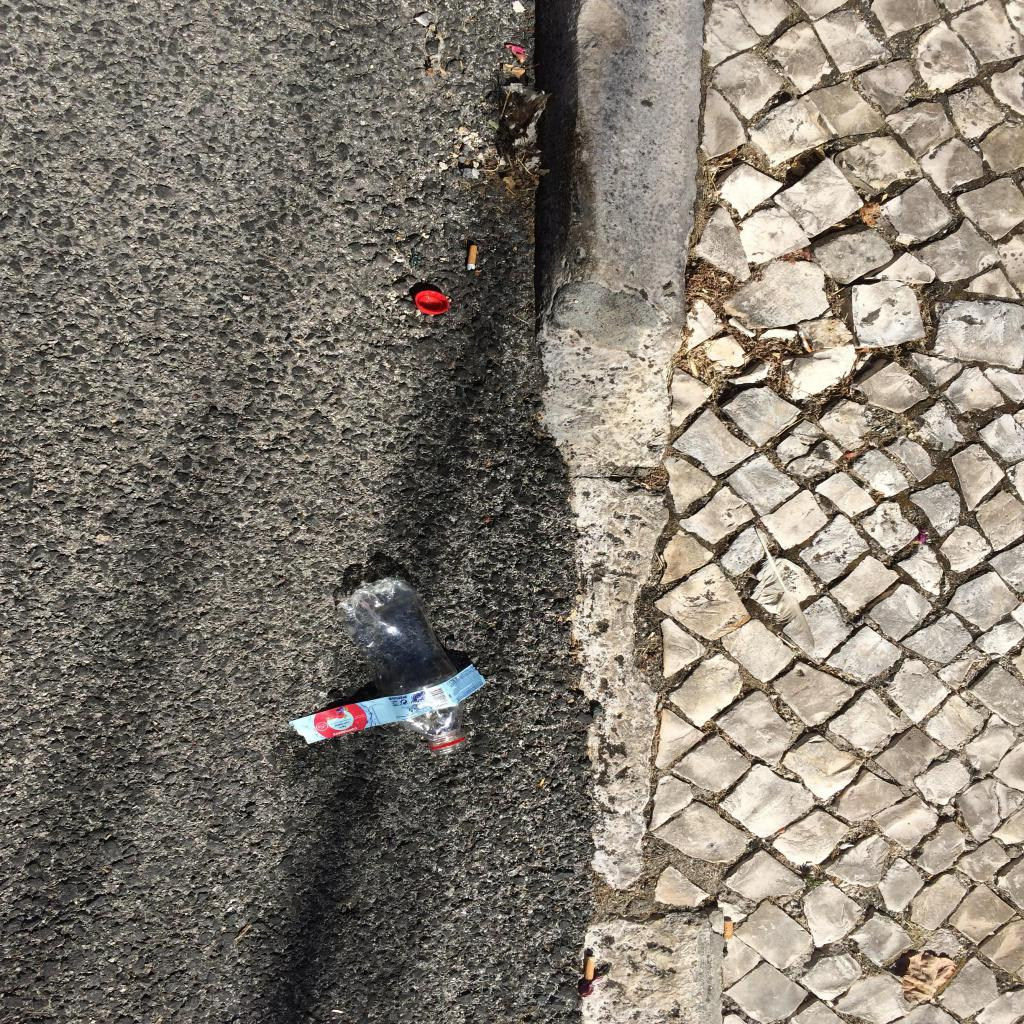Cigarette: (798, 329, 812, 353), (584, 957, 596, 980), (467, 246, 477, 271), (724, 921, 732, 943)
Clear plastic bottle: (336, 577, 466, 755)
Plastic bottle cap: (416, 290, 450, 314)
Wrapping paper: (289, 663, 486, 744)
